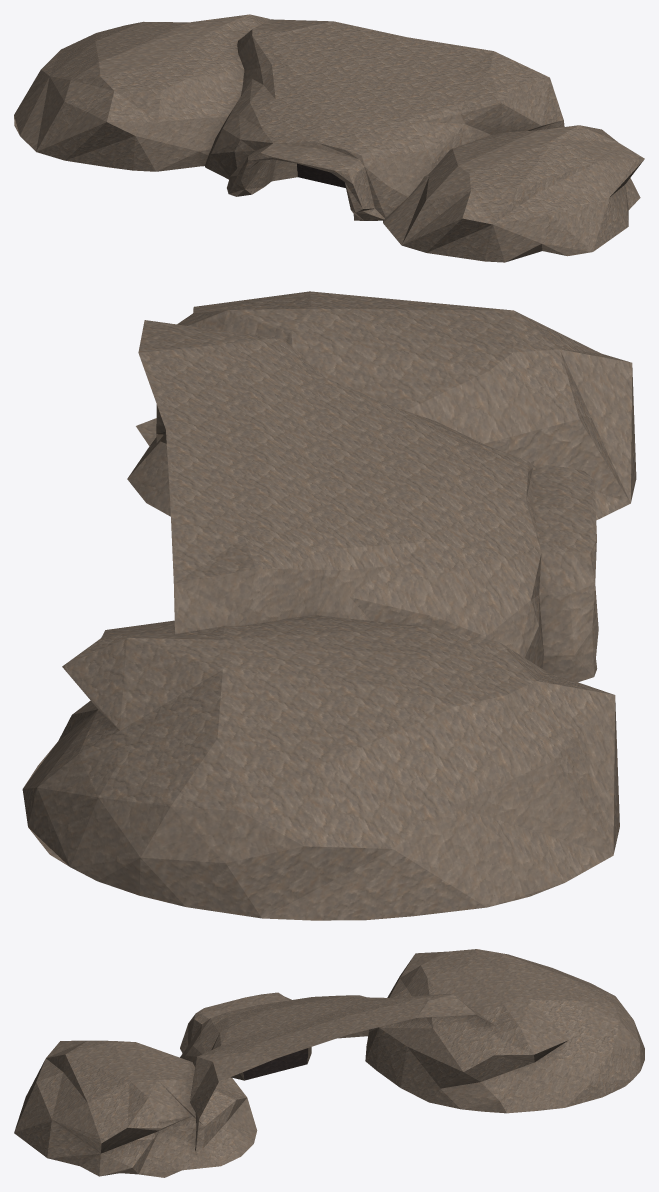
File: intact-cave-7cc6.glb
3 renders of one model, top to bottom at view 1: azimuth 30°, elevation 25°; view 2: azimuth 150°, elevation 25°; view 3: azimuth 270°, elevation 25°, orthographic. The views are drawn at different scales.
Visible parts, largest first — view 1: Intact CC0 cave global anisotropic, original474tri; view 2: Intact CC0 cave global anisotropic, original474tri; view 3: Intact CC0 cave global anisotropic, original474tri.
Boxes of the visible parts, <box> form: Intact CC0 cave global anisotropic, original474tri: <box>14,14,644,262</box>; Intact CC0 cave global anisotropic, original474tri: <box>22,291,636,920</box>; Intact CC0 cave global anisotropic, original474tri: <box>14,949,644,1177</box>.
Bounding box in the file's own units: 67.25 × 14.63 × 91.45.
1 material, 1 textured.
